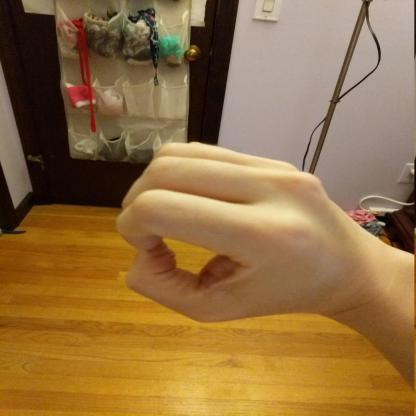O: (116, 142, 372, 327)
